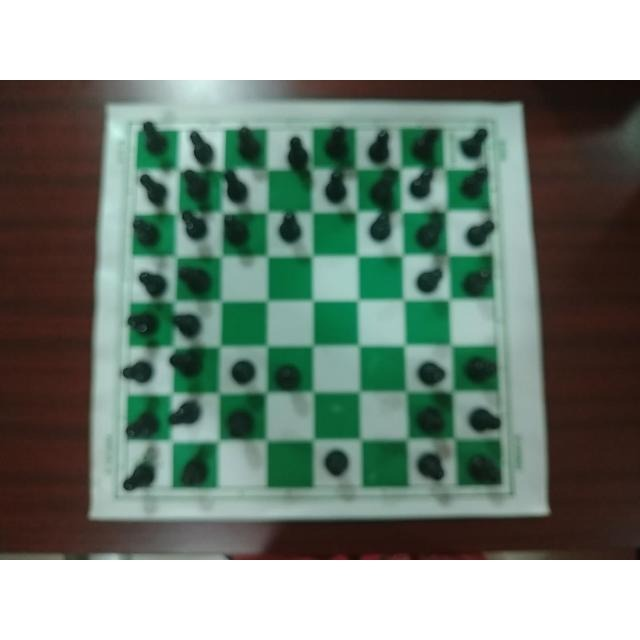black-pawn: (365, 169, 405, 207), (229, 125, 264, 165), (167, 348, 209, 380), (218, 167, 253, 205), (176, 263, 214, 297), (121, 459, 156, 495), (412, 210, 443, 250), (176, 454, 211, 489), (462, 353, 498, 387), (167, 398, 206, 429), (457, 127, 490, 163), (415, 448, 448, 484), (136, 172, 170, 206), (128, 215, 163, 248), (466, 401, 502, 433), (413, 406, 449, 438), (276, 210, 308, 246), (170, 308, 206, 340), (123, 411, 161, 441), (177, 209, 210, 243), (322, 447, 354, 482), (466, 452, 502, 483), (322, 125, 351, 163), (324, 165, 352, 204), (179, 168, 213, 200), (135, 267, 169, 299), (462, 215, 497, 246), (220, 214, 251, 249), (125, 310, 161, 340), (140, 118, 168, 156), (283, 134, 311, 172), (408, 128, 439, 162), (458, 165, 489, 199), (460, 267, 494, 298), (185, 128, 215, 163), (120, 359, 156, 388), (272, 360, 304, 392), (225, 407, 257, 439), (367, 128, 395, 164), (368, 206, 395, 243), (415, 357, 447, 387), (413, 265, 445, 295), (231, 355, 259, 386), (408, 168, 436, 198)
